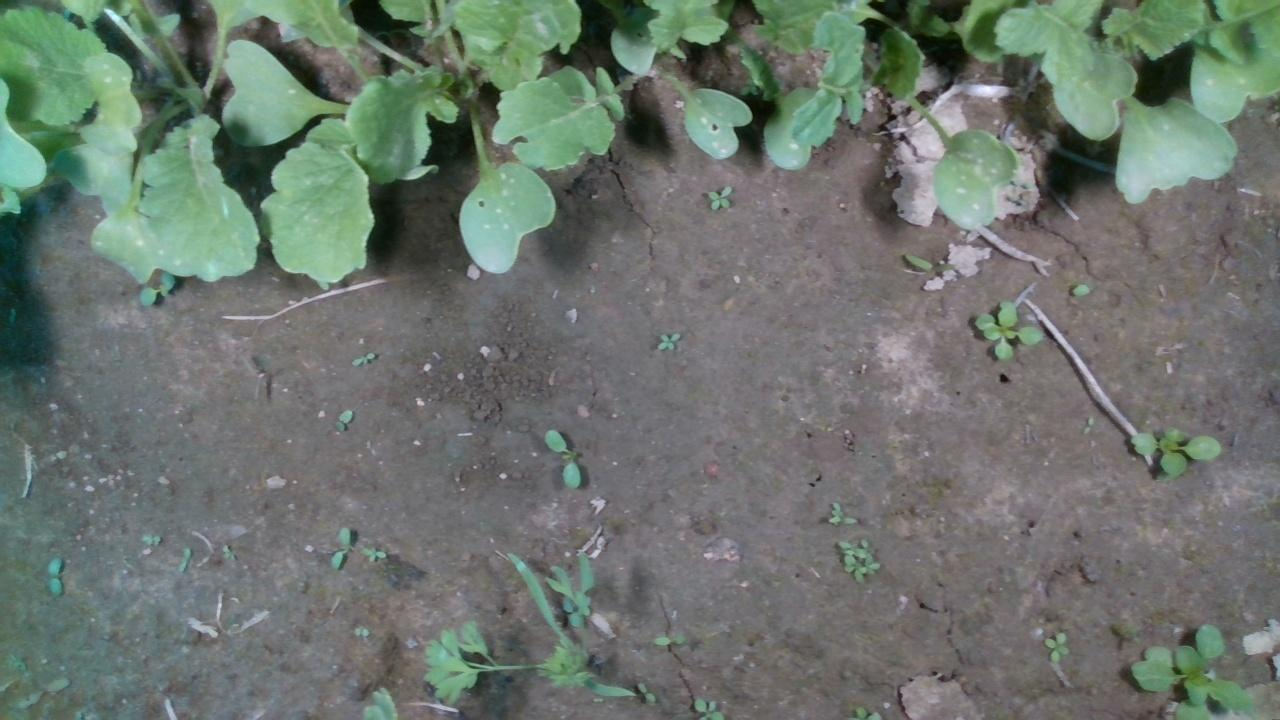weed: (541, 428, 581, 488), (330, 522, 351, 569), (1040, 632, 1069, 663), (45, 555, 65, 598), (706, 183, 735, 211), (331, 407, 354, 434), (654, 331, 681, 352), (636, 679, 656, 704), (359, 545, 388, 562), (174, 546, 191, 574), (650, 633, 683, 646), (351, 351, 377, 366)
